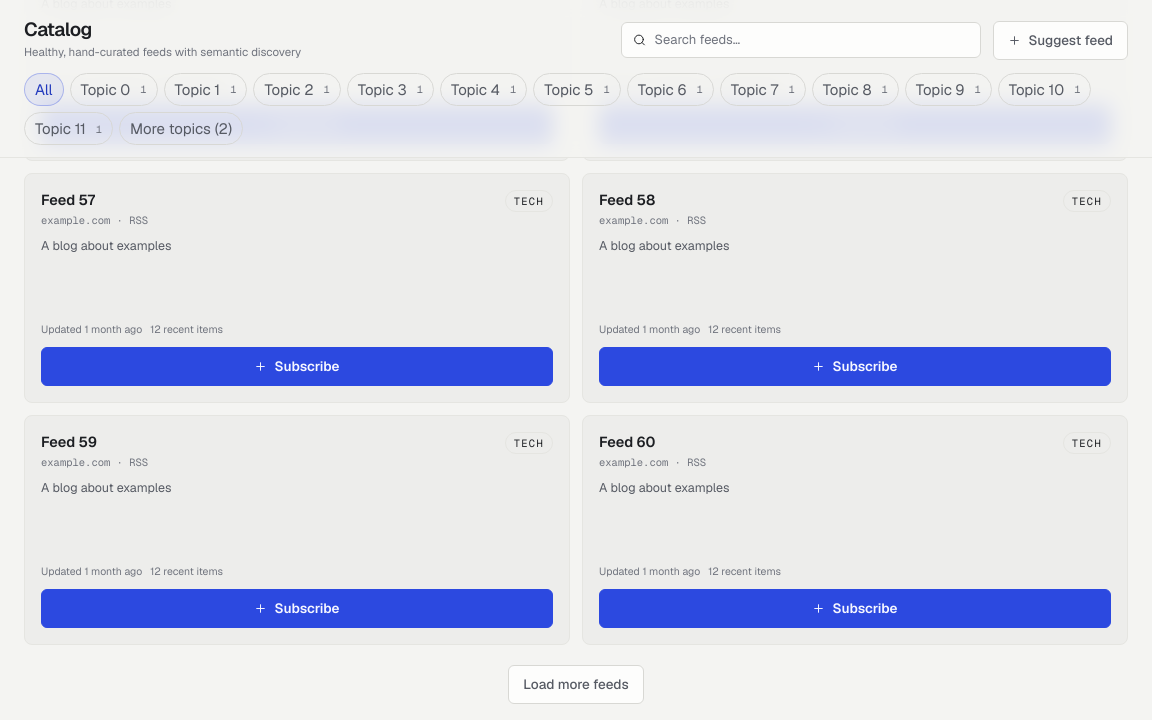
it: CatalogPage › expands topics and incrementally renders a large catalog
(page scrolled)
Click the button "Load more feeds" at (576, 685), box [508,665,644,704]
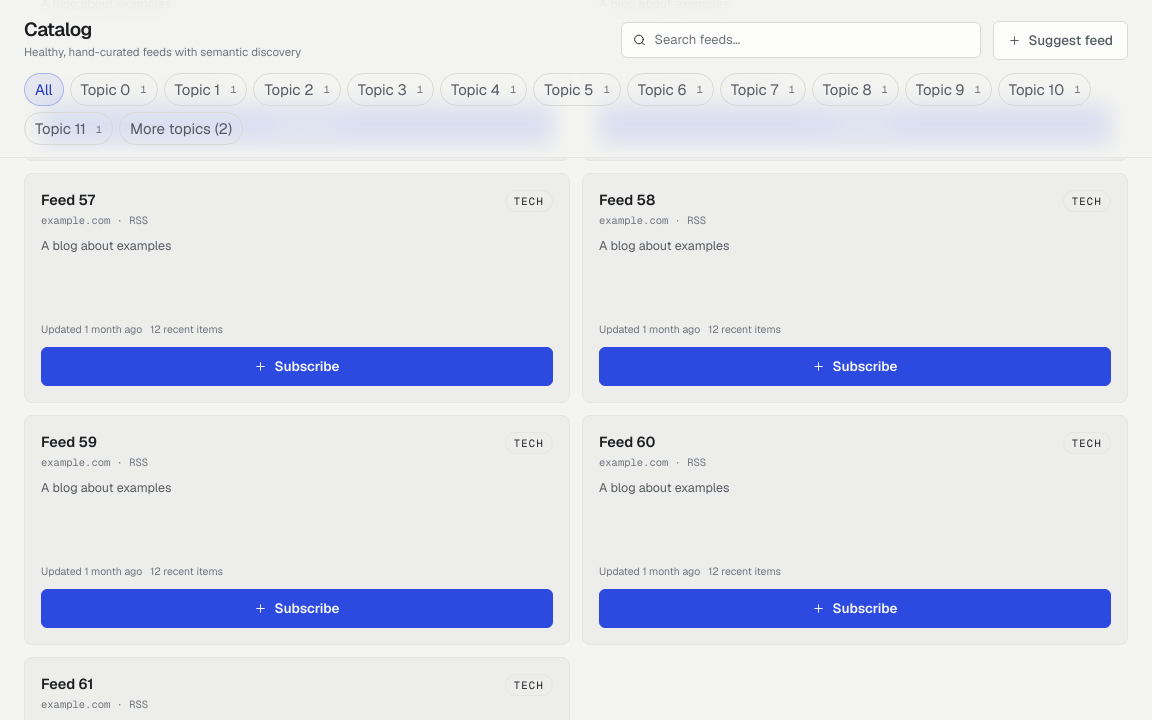
Click the button "More topics (2)" at (181, 129), box [119,112,243,145]
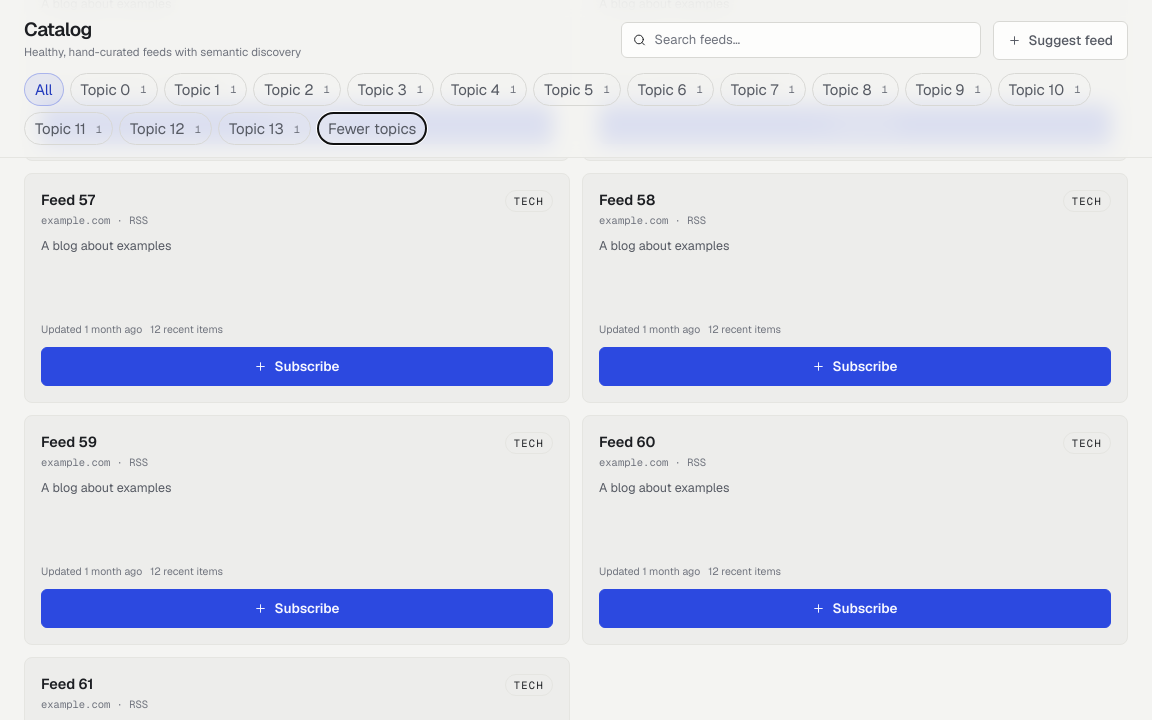
Expected: the button "Fewer topics" is shown, [317,112,427,145]
